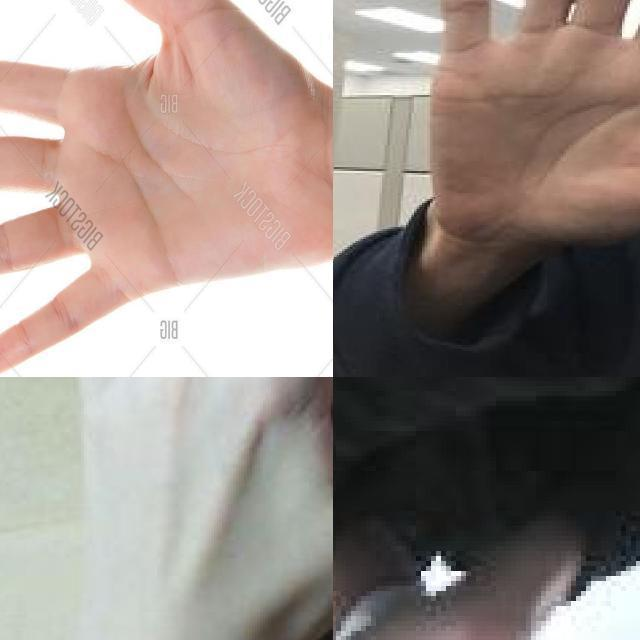hand: (0, 0, 333, 377), (65, 377, 333, 640), (428, 0, 640, 245)
